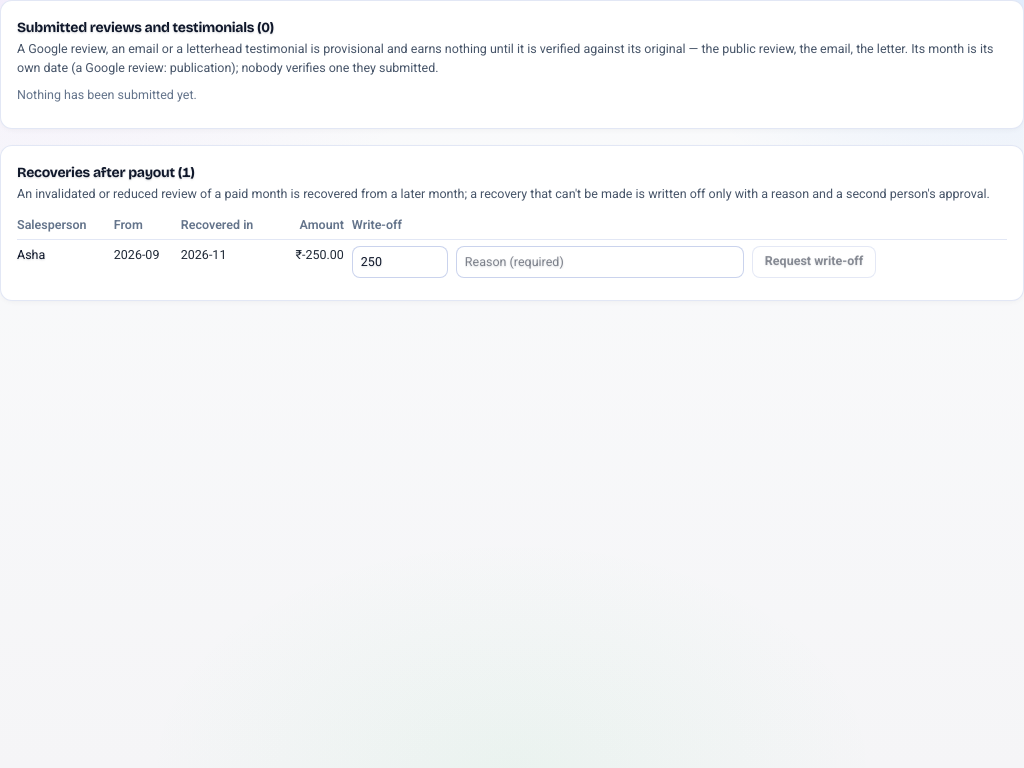
Test: Category F review screen: refusals (a right missing or removed after the page opened) › write-off request and decision refused: message shown, buttons usable again, amount and reason kept
Later steps or results of the test are not shown.
Replace the text in the number field named "Write-off amount for Asha" with "120" at (400, 262), box [352,246,448,278]
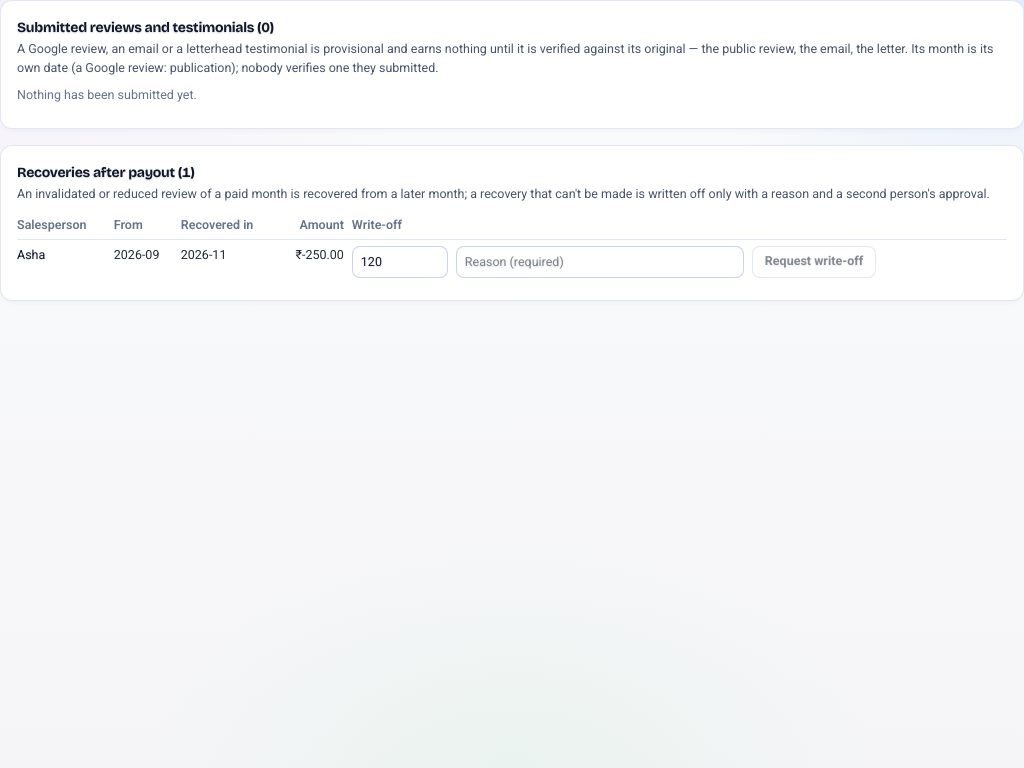
Type "Left the company" into the field named "Reason for writing off Asha's recovery" at (600, 262), box [456,246,744,278]
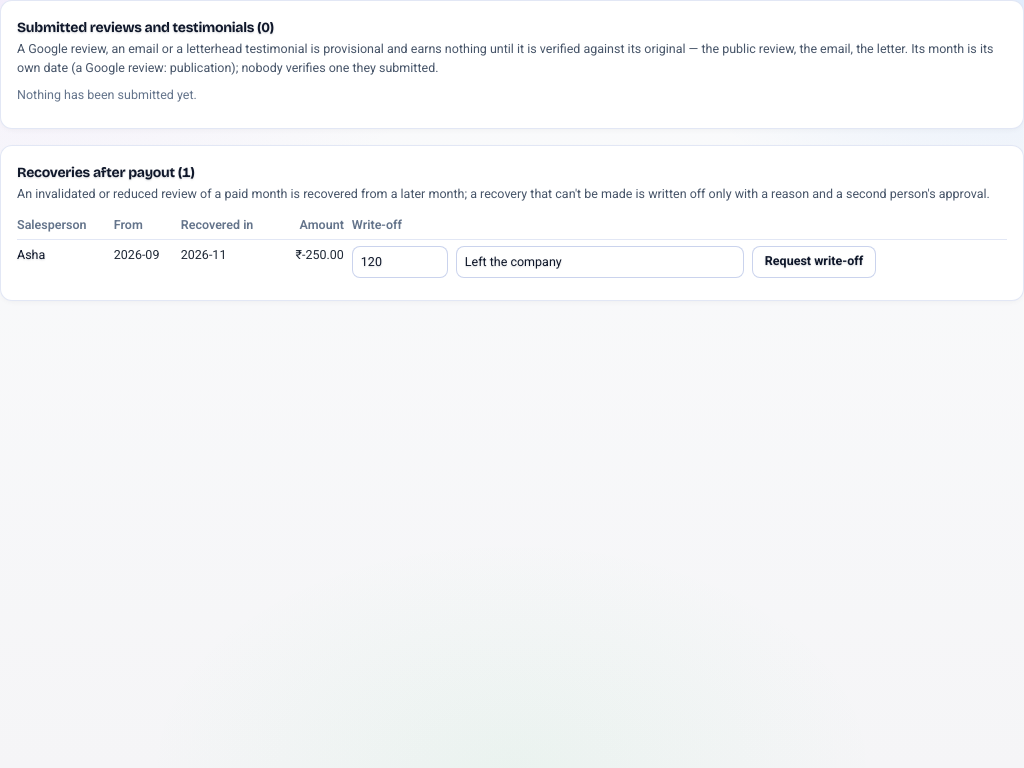
Click the button "Request write-off" at (814, 262), box [752,246,876,278]
Check: the button "Request write-off" is enabled, box [752,246,876,278]
